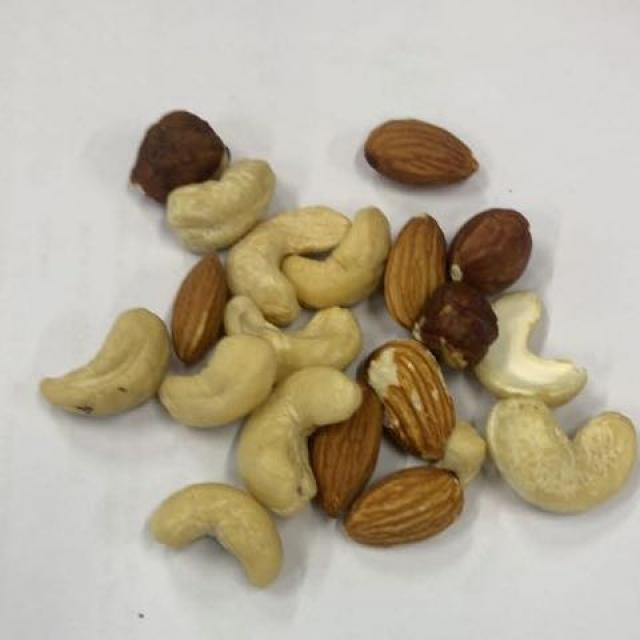mixed-nuts: (33, 66, 626, 618), (52, 67, 639, 619), (28, 91, 633, 579), (49, 99, 610, 611), (41, 94, 607, 595), (47, 106, 622, 595), (54, 112, 620, 574), (51, 119, 618, 570)
